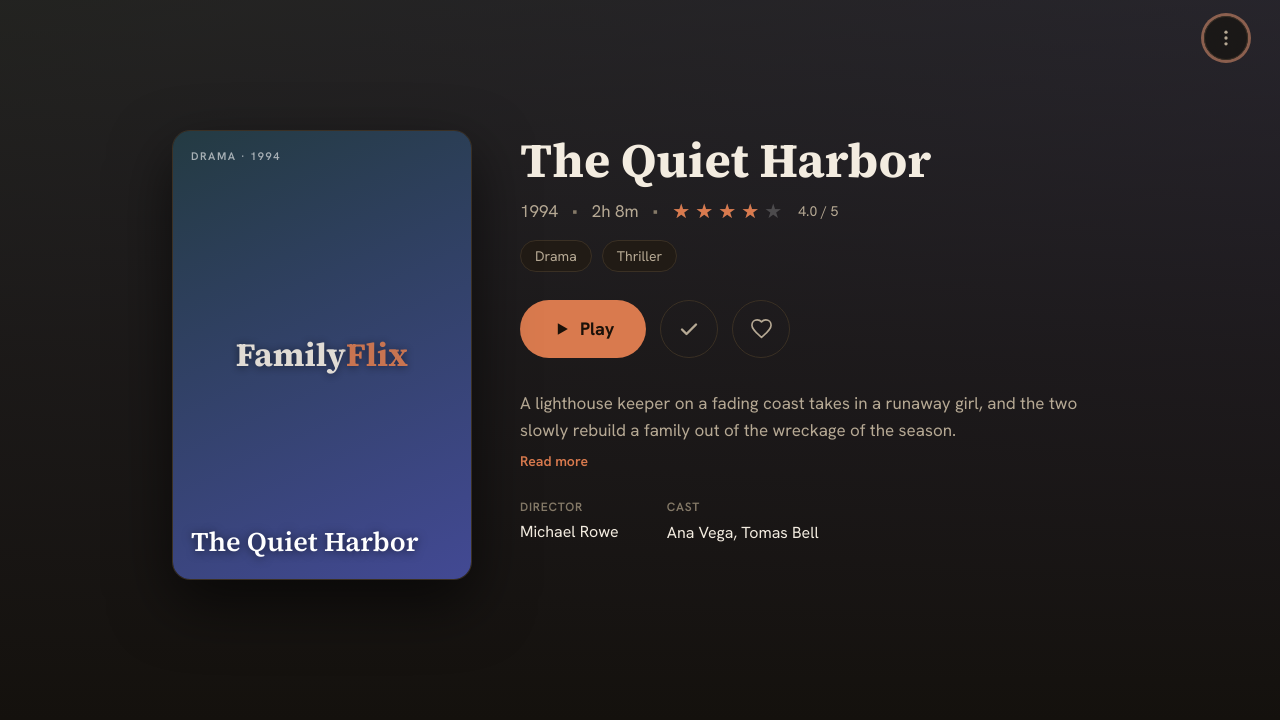
Test: MovieDetail — deleting the movie › names the movie that is actually on the page, not a specimen
This screenshot has width=1280, height=720.
Step 1. Click the button named "more options" → (1226, 38), box x1=1204 y1=16 x2=1248 y2=60
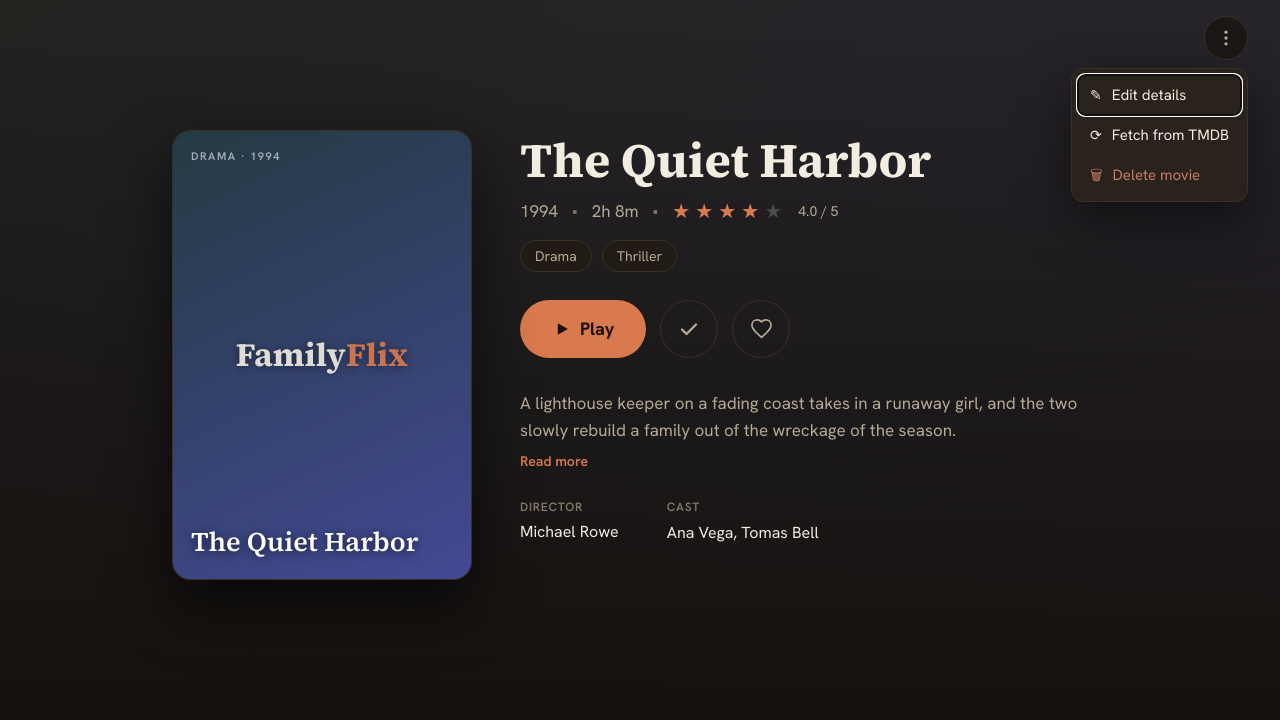
Step 2. Click the menu item "🗑 Delete movie" → (1160, 175), box x1=1078 y1=155 x2=1241 y2=195
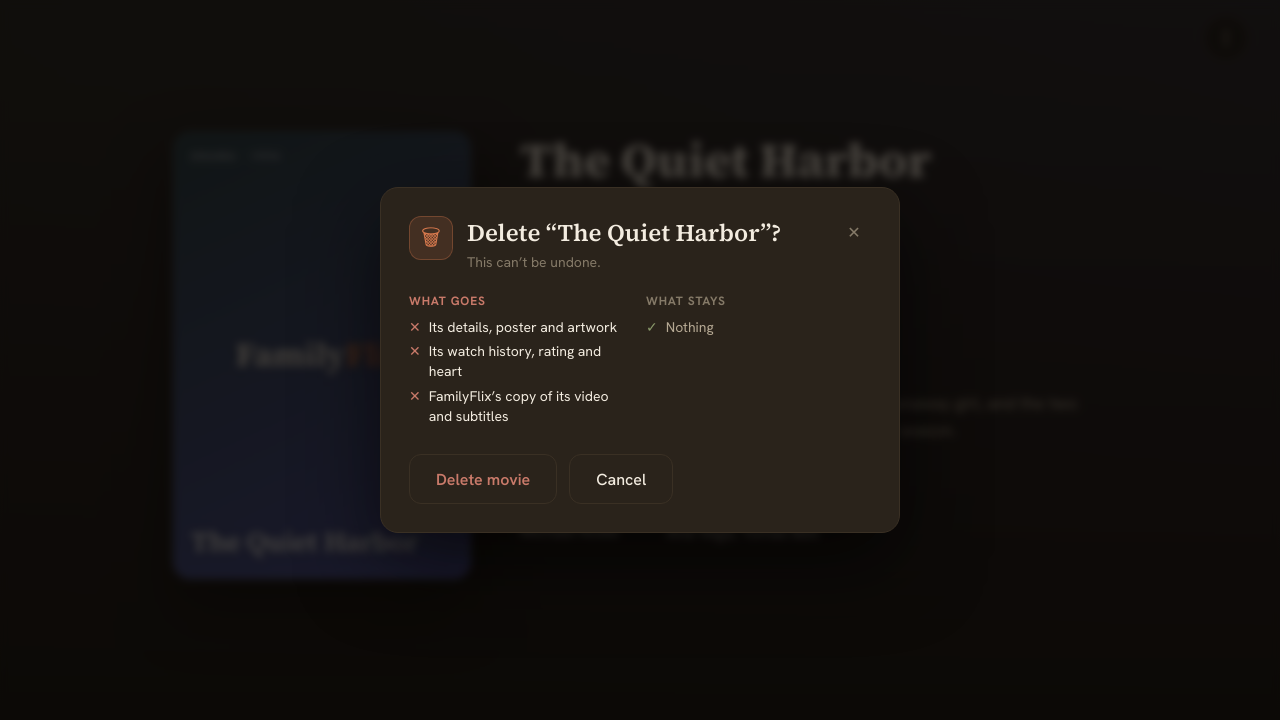
Expected: the dialog "Delete “The Quiet Harbor”?" is shown, x1=380 y1=187 x2=900 y2=533
